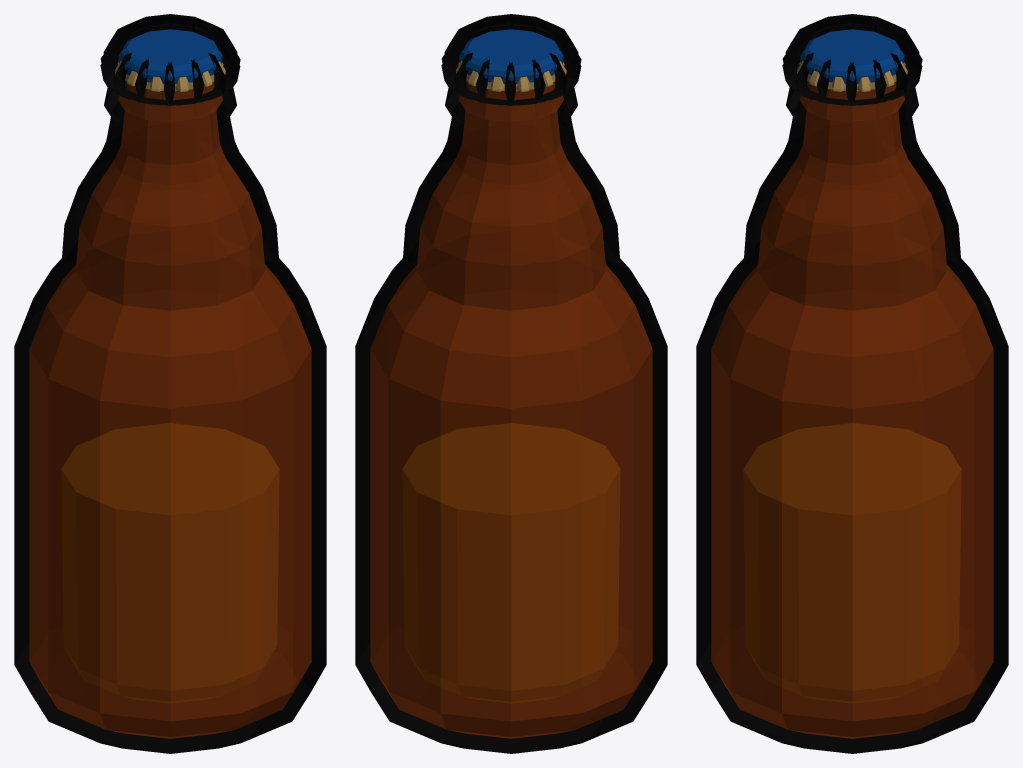
The model's file is efespilsen.fbx.
The picture shows the model from 3 angles, left to right: view 1: azimuth 30°, elevation 25°; view 2: azimuth 150°, elevation 25°; view 3: azimuth 270°, elevation 25°; orthographic projection.
Parts seen in each view (by area): view 1: pasted__pasted__group2, pasted__pasted__group4; view 2: pasted__pasted__group2, pasted__pasted__group4; view 3: pasted__pasted__group2, pasted__pasted__group4.
Part boxes in pixels (x1,y1,x2,y2): pasted__pasted__group2: (29, 29, 311, 738); pasted__pasted__group4: (14, 14, 326, 753); pasted__pasted__group2: (370, 29, 652, 738); pasted__pasted__group4: (355, 14, 667, 753); pasted__pasted__group2: (711, 29, 993, 738); pasted__pasted__group4: (696, 14, 1008, 753).
Bounding box in the file's own units: 0.8464 × 2.03 × 0.8464.
